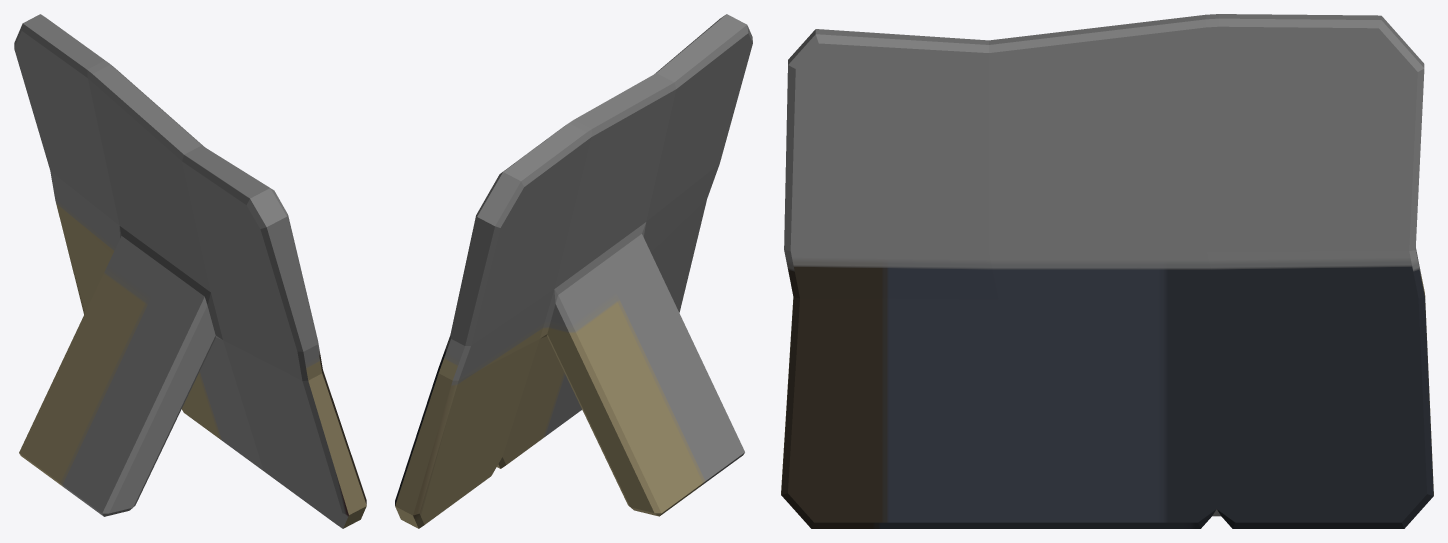
File: SheepCutout.fbx
3 renders of one model, left to right at view 1: azimuth 30°, elevation 25°; view 2: azimuth 150°, elevation 25°; view 3: azimuth 270°, elevation 25°, orthographic. The views are drawn at different scales.
Parts seen in each view (by area): view 1: SHEEP; view 2: SHEEP; view 3: SHEEP.
Part boxes in pixels (bbox=[...]): SHEEP: bbox=[14, 14, 366, 528]; SHEEP: bbox=[395, 14, 752, 528]; SHEEP: bbox=[781, 14, 1433, 528].
Size of the model in its own units: 103 by 199 by 253.
